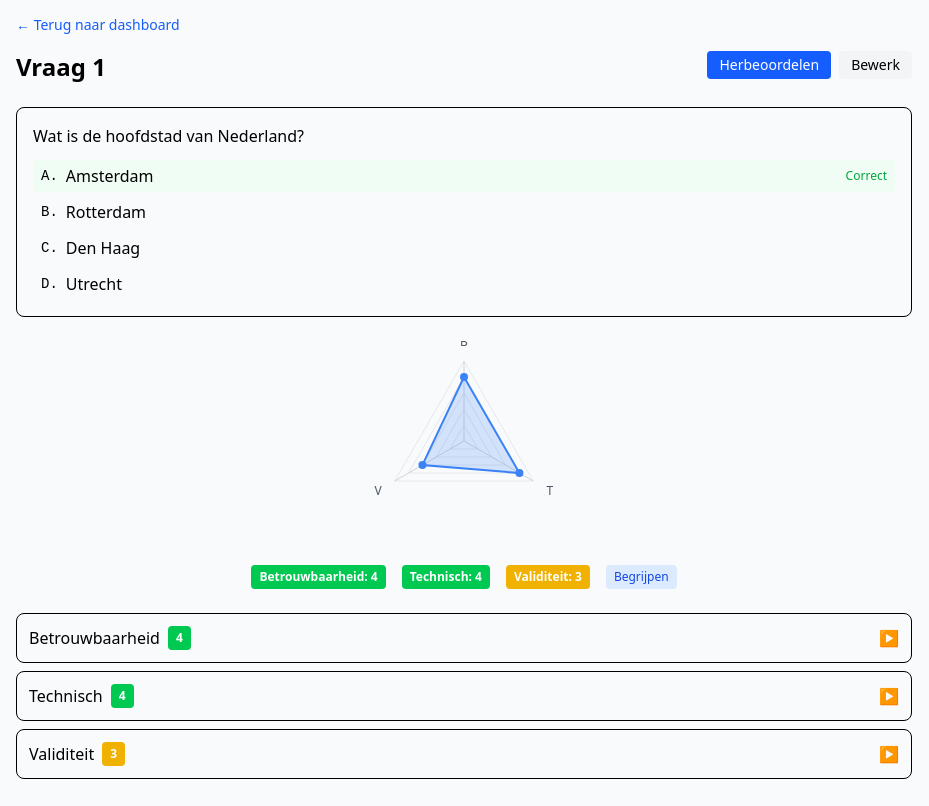
Scenario: QuestionDetail › T9.3: loading state during reassessment (button disabled + text changes)
The width and height of the screenshot is (929, 806).
Expected: the text "Wat is de hoofdstad van Nederland?" is shown, [33, 125, 304, 147]
Click the button "Herbeoordelen".
click(769, 65)  # box [708, 51, 831, 79]
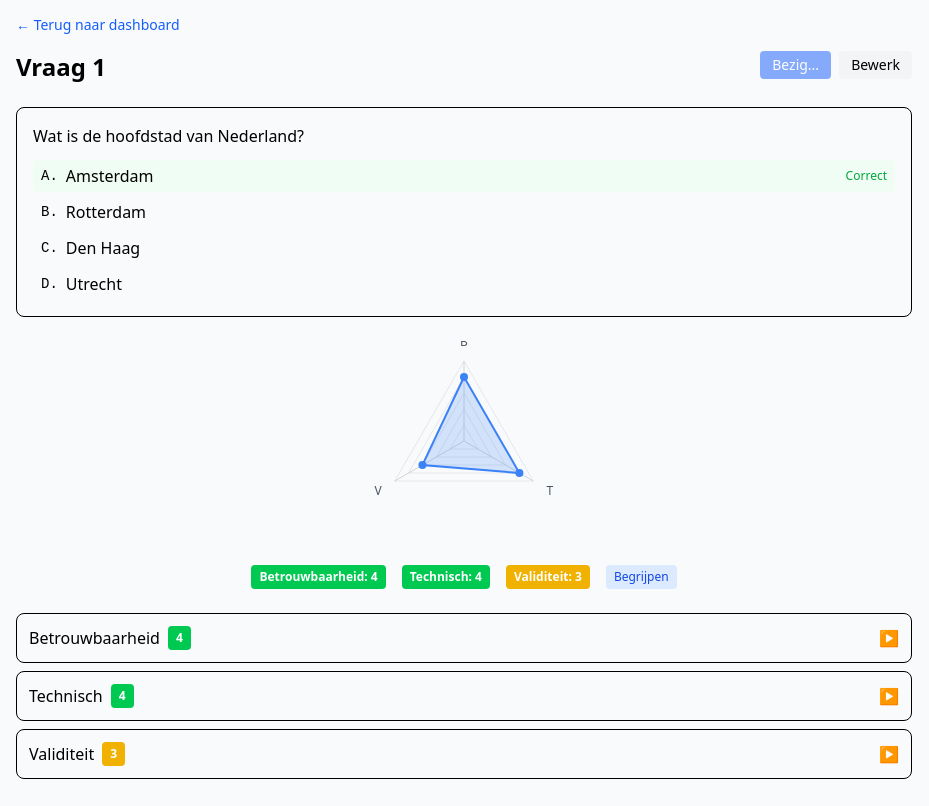
Expected: the button "Bezig..." is disabled, [760, 51, 831, 79]
